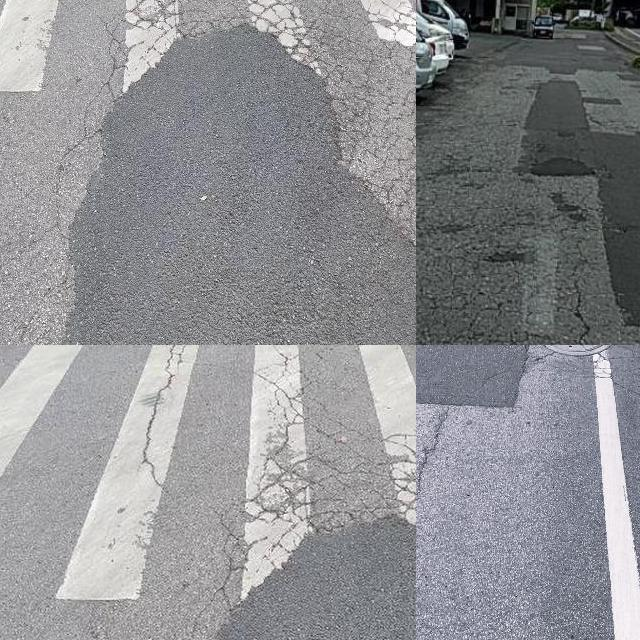Memanjang: (416, 409, 466, 526)
Sambungan: (68, 28, 416, 345), (515, 79, 640, 329), (416, 345, 526, 408)
